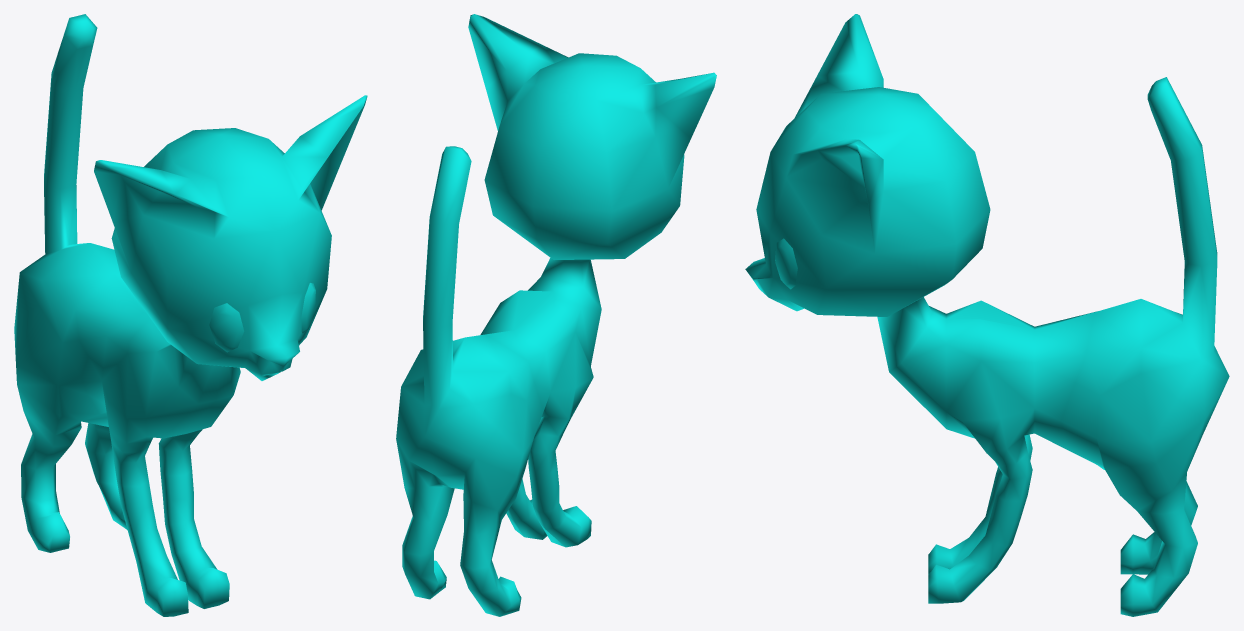
Rendered from cat.fbx.
The picture shows the model from 3 angles, left to right: view 1: azimuth 30°, elevation 25°; view 2: azimuth 150°, elevation 25°; view 3: azimuth 270°, elevation 25°; orthographic projection. The views are drawn at different scales.
Visible parts, largest first — view 1: Sphere; view 2: Sphere; view 3: Sphere.
Boxes of the visible parts, left/top/right/bottom form: Sphere: left=14, top=14, right=367, bottom=616; Sphere: left=396, top=14, right=716, bottom=616; Sphere: left=745, top=14, right=1229, bottom=616.
Bounding box in the file's own units: 1.67 × 3.01 × 2.58.
